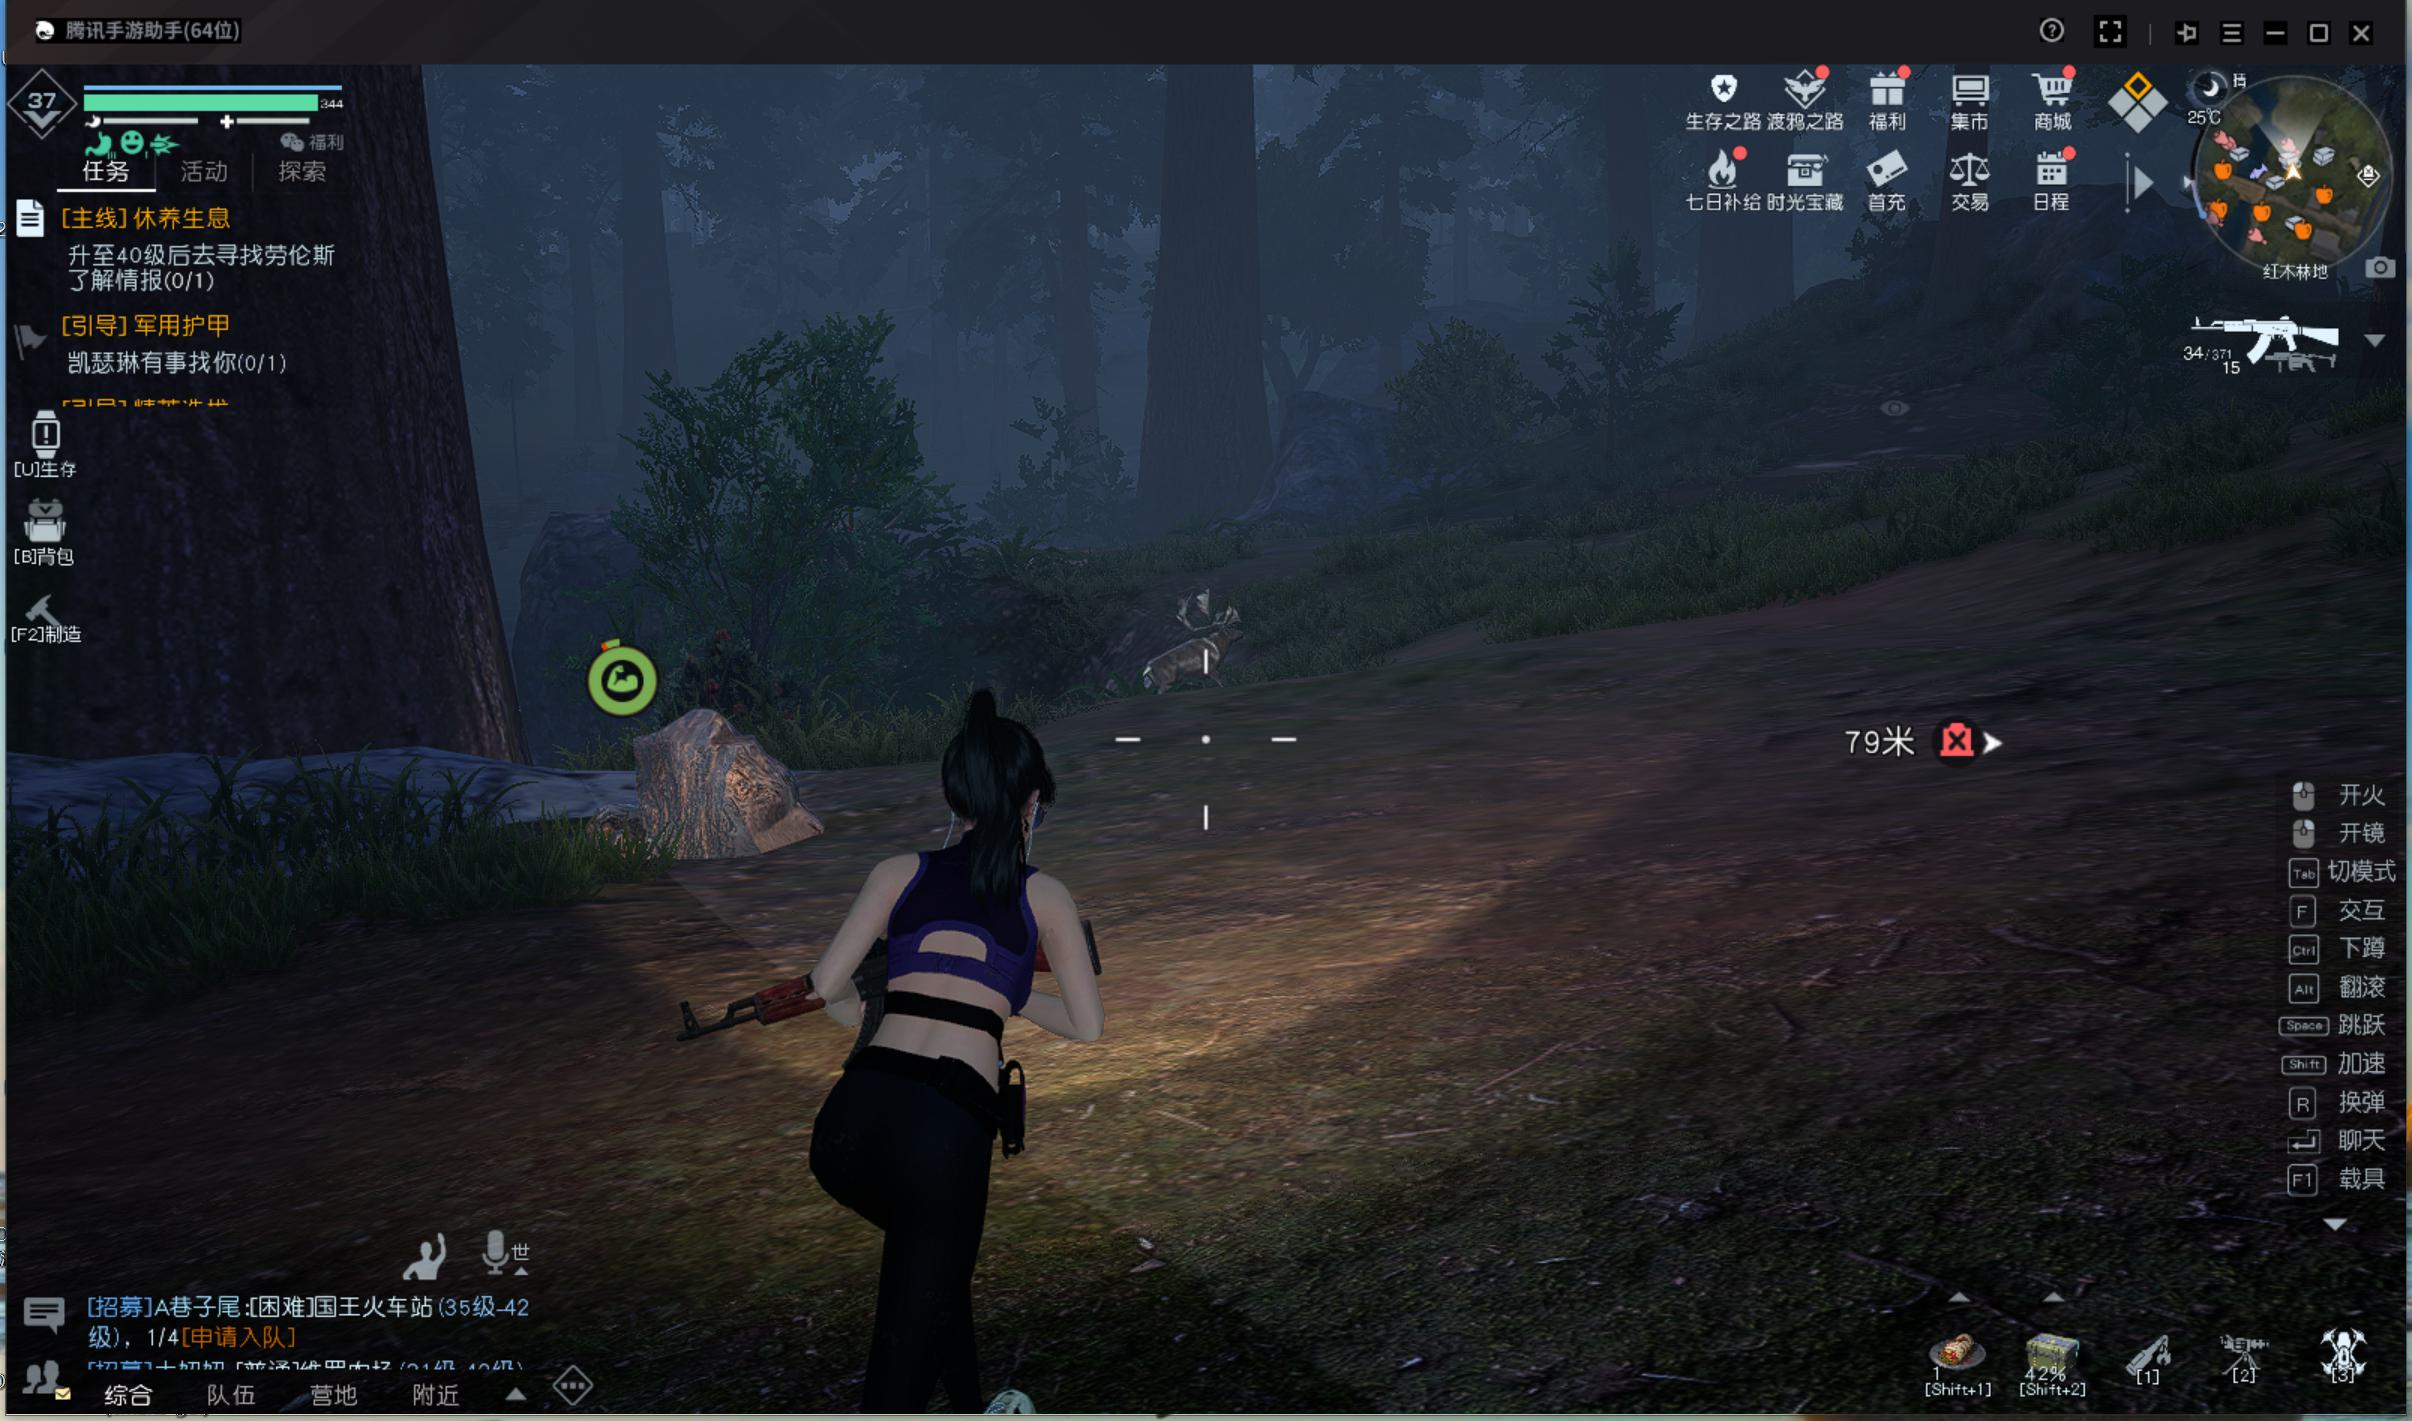stone: (606, 721, 807, 870)
tree: (1142, 86, 1287, 545)
